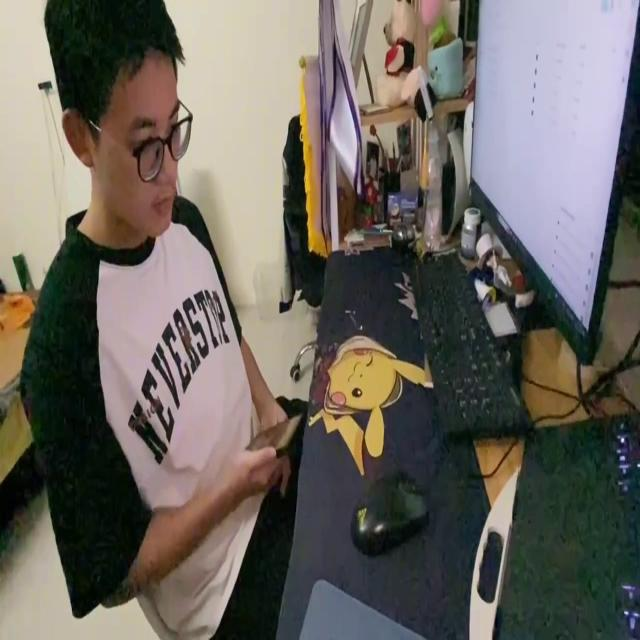laptop: (469, 0, 640, 366)
phone: (245, 411, 307, 457)
student: (22, 0, 302, 635)
